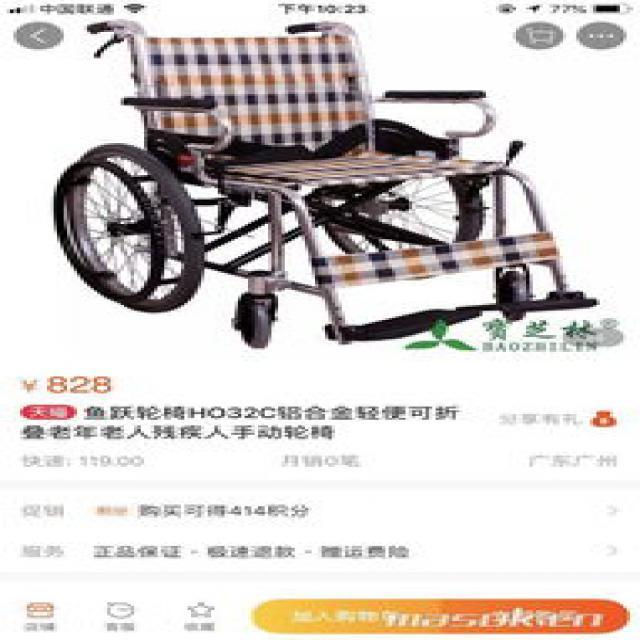wheelchair: (64, 21, 594, 356)
